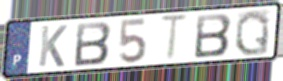5: (117, 16, 148, 65)
B: (193, 12, 234, 60), (73, 20, 113, 68)
K: (37, 24, 69, 68)
Q: (233, 8, 271, 58)
T: (158, 13, 191, 64)
